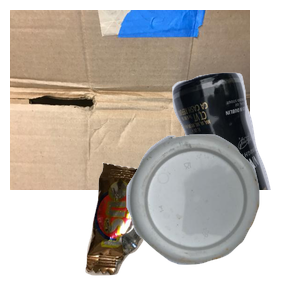cardboard: (10, 10, 250, 190)
glass: (106, 70, 300, 250)
plastic: (124, 132, 300, 300)
trash: (83, 160, 233, 300)
